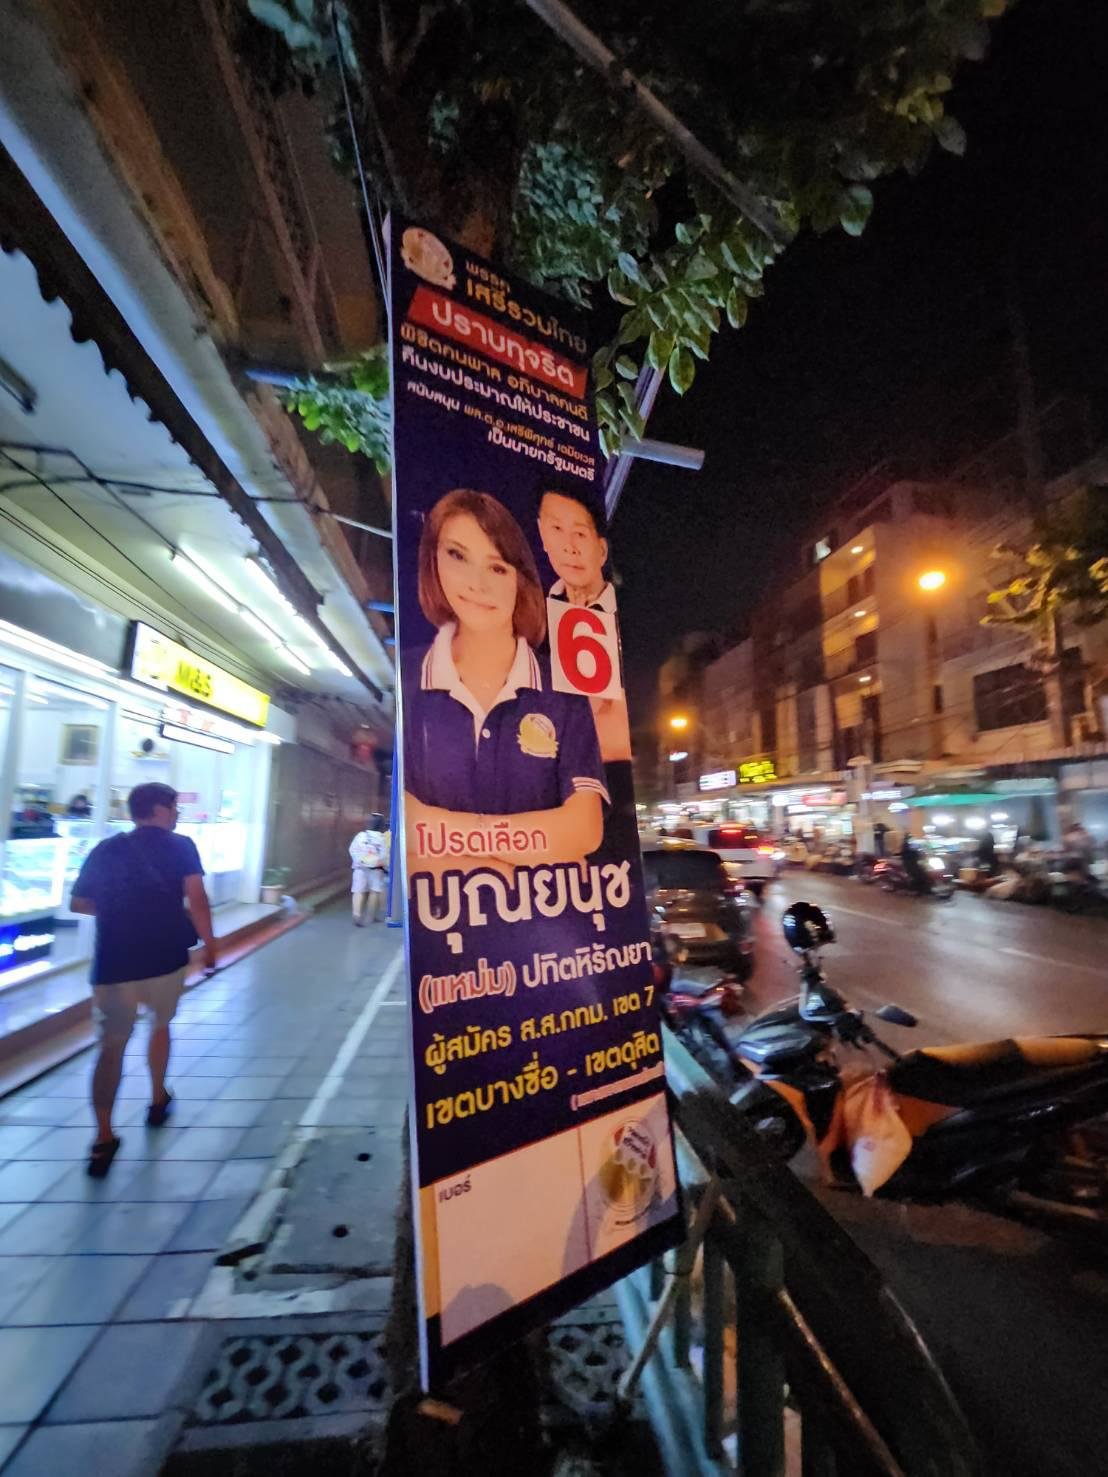Banner: (372, 204, 712, 1390)
